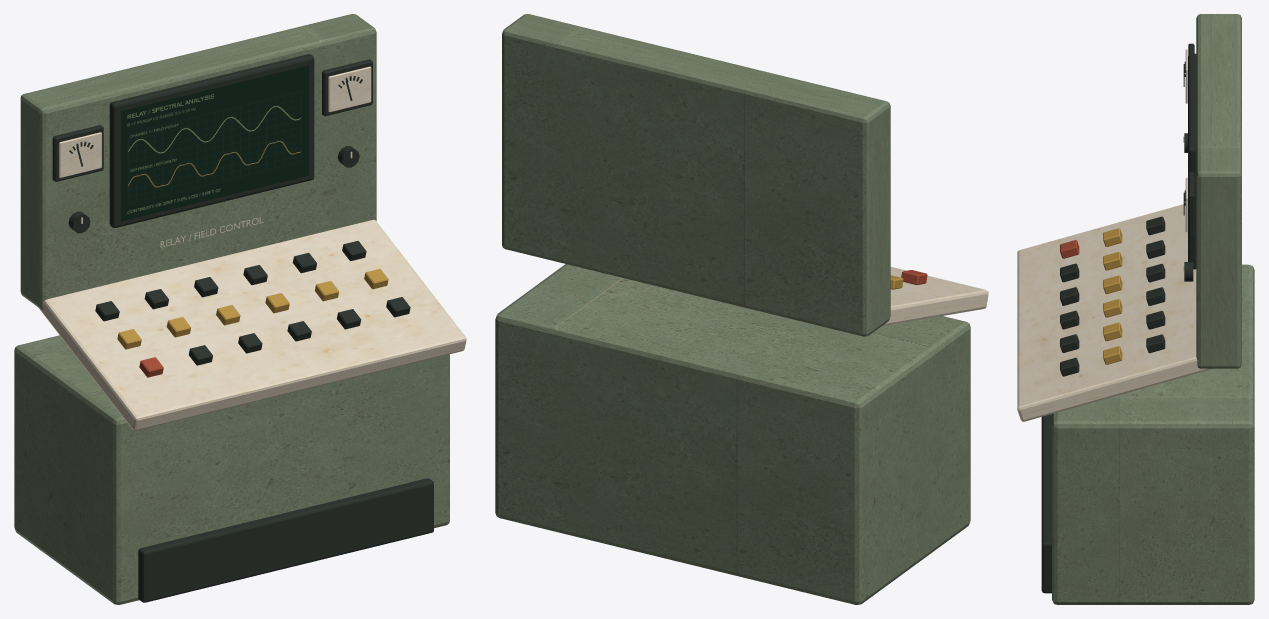
File: control_console.glb
3 views of the same model, side by side, from view 1: azimuth 30°, elevation 25°; view 2: azimuth 150°, elevation 25°; view 3: azimuth 270°, elevation 25° (orthographic). The views are drawn at different scales.
Parts seen in each view (by area): view 1: Faded green console enamel, Ivory control fascia and meter scales, Bakelite switches and meter bezels, CRT field display, Amber indicator lenses; view 2: Faded green console enamel, Ivory control fascia and meter scales; view 3: Faded green console enamel, Ivory control fascia and meter scales, Bakelite switches and meter bezels, Amber indicator lenses.
Part boxes in pixels (bbox=[...]): Faded green console enamel: bbox=[14, 14, 449, 604]; Ivory control fascia and meter scales: bbox=[38, 66, 466, 430]; Bakelite switches and meter bezels: bbox=[52, 54, 433, 602]; CRT field display: bbox=[121, 65, 309, 221]; Amber indicator lenses: bbox=[117, 269, 388, 349]; Faded green console enamel: bbox=[495, 14, 970, 604]; Ivory control fascia and meter scales: bbox=[882, 267, 988, 326]; Faded green console enamel: bbox=[1052, 14, 1254, 604]; Ivory control fascia and meter scales: bbox=[1017, 49, 1212, 421]; Bakelite switches and meter bezels: bbox=[1041, 43, 1196, 593]; Amber indicator lenses: bbox=[1103, 228, 1122, 364].
Size of the model in its own units: 1.5 by 1.89 by 0.9367.
Materials: 6 (3 with a texture image).
